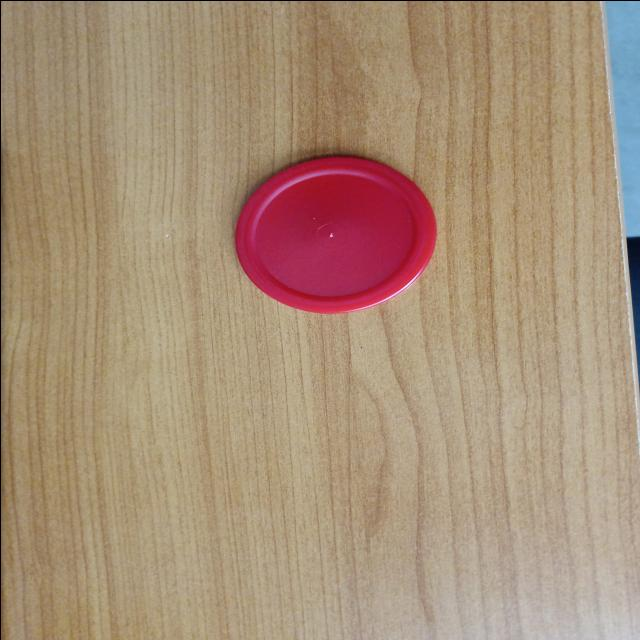chip: (231, 154, 438, 314)
